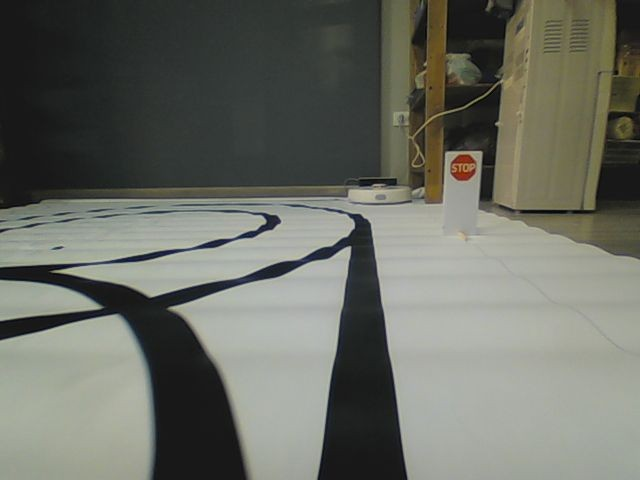Stop: (449, 153, 477, 182)
